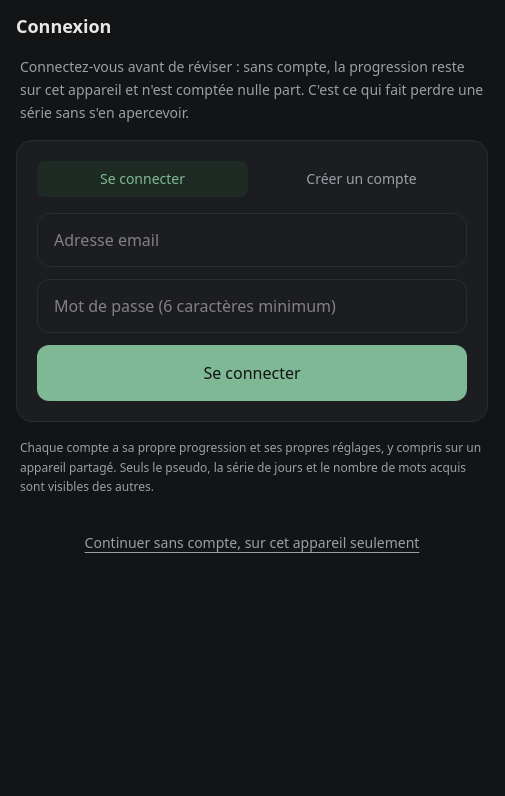
Test: connexion demandée avant de réviser › laisse passer sans compte, mais le signale en permanence
The image size is (505, 796).
Click the button "Continuer sans compte, sur cet appareil seulement" at (252, 543), box [16,521,488,565]
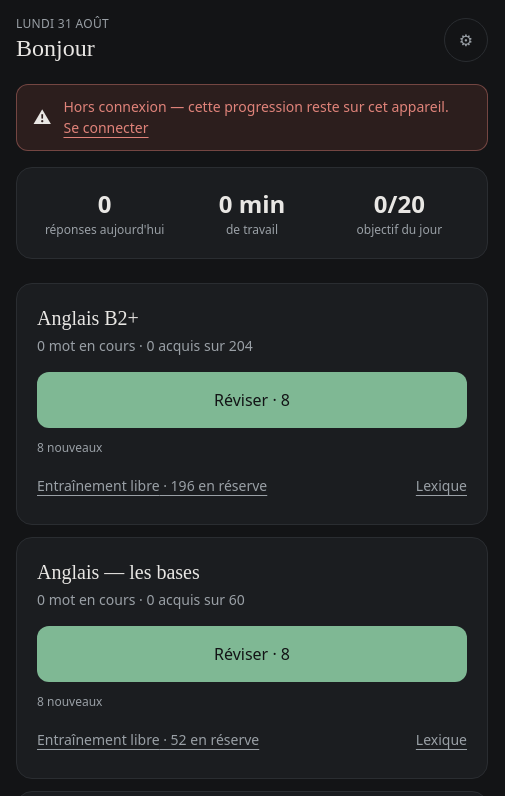
Check: the text "Hors connexion" is shown, box [64,97,449,116]
Check: the button "Réviser · 8" below "204" is shown, box [37,372,467,428]
